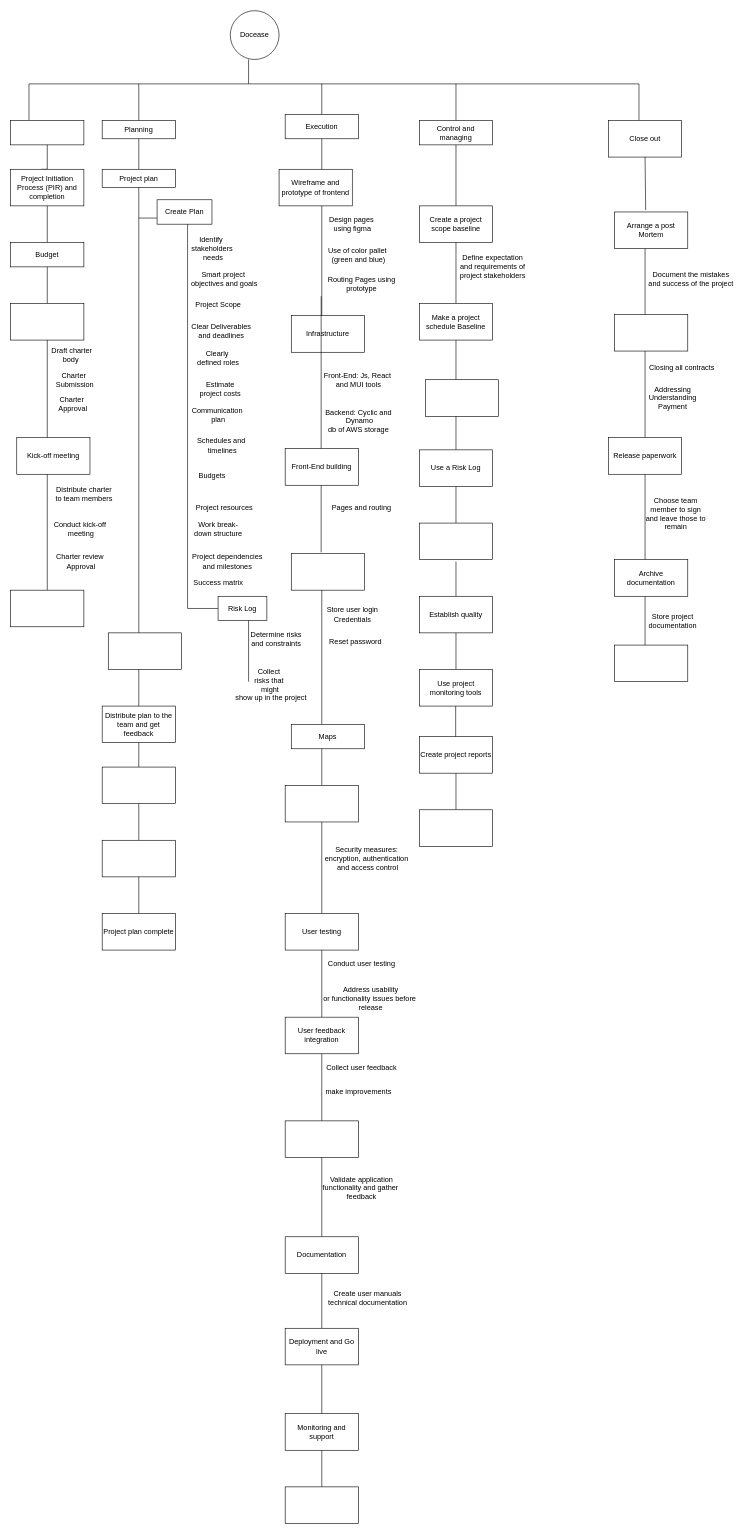
Image size: 753x1534. Some labels were removed from this diagram. Here are the shapes that lost their labels. From the top down, the box of each, then its label:
(10, 120, 84, 145): Initiation
(10, 303, 84, 340): Project Charter
(614, 314, 688, 351): Complete paperwork
(425, 379, 499, 416): Estimate project costs and define project budget
(419, 522, 493, 560): Use a change log
(291, 553, 364, 590): Backend
(10, 590, 84, 627): Initiation phase complete
(108, 632, 181, 669): Obtain tasks and estimates from project team and update them
(614, 644, 688, 682): Celebrate success
(102, 766, 175, 804): Conduct plan review meeting
(285, 785, 358, 822): Security Implementation
(419, 809, 493, 846): End control phase
(102, 840, 175, 877): Approve project plan
(285, 1120, 358, 1157): Pilot testing
(285, 1486, 358, 1523): Feedback iteration
